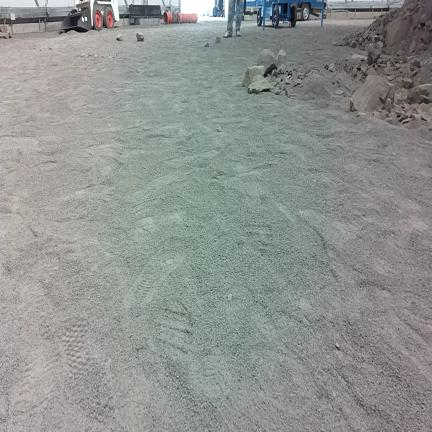Rock: (350, 75, 394, 111), (258, 49, 277, 76), (242, 66, 264, 87), (408, 84, 431, 104), (248, 75, 272, 93), (368, 43, 381, 65), (277, 50, 286, 66), (421, 112, 431, 122), (411, 58, 421, 68), (360, 64, 368, 76), (374, 112, 386, 120), (403, 78, 412, 88), (385, 98, 391, 112), (409, 39, 415, 53), (399, 113, 408, 122), (367, 67, 377, 75), (395, 98, 406, 105), (376, 40, 384, 49), (371, 35, 380, 43), (389, 58, 396, 67), (0, 25, 7, 33), (328, 64, 335, 72), (411, 113, 419, 120), (343, 38, 350, 46), (362, 33, 370, 40), (137, 32, 143, 41), (304, 71, 313, 77), (352, 67, 357, 77), (266, 76, 273, 83), (286, 89, 293, 96), (294, 79, 301, 86), (0, 33, 8, 39), (385, 118, 393, 124), (379, 63, 387, 69), (280, 64, 285, 73), (335, 90, 344, 95), (402, 118, 411, 123), (345, 84, 351, 91), (303, 79, 310, 85), (412, 70, 418, 77), (394, 64, 401, 70), (270, 76, 276, 82), (280, 75, 286, 81), (387, 75, 393, 81), (396, 111, 402, 117), (412, 107, 418, 113), (360, 56, 366, 62), (377, 58, 383, 64), (117, 34, 122, 41), (275, 88, 280, 95), (351, 41, 356, 48), (275, 68, 279, 76), (357, 112, 365, 116), (276, 77, 281, 83), (283, 80, 289, 85), (324, 63, 329, 69), (396, 77, 402, 82), (286, 75, 292, 80), (369, 25, 374, 31), (335, 42, 342, 46), (386, 60, 390, 67), (420, 60, 424, 67), (287, 69, 292, 74), (298, 83, 303, 88), (365, 29, 370, 34), (216, 37, 220, 43), (359, 38, 363, 44), (344, 57, 350, 61), (374, 64, 378, 70), (7, 33, 11, 38), (217, 127, 221, 132), (272, 70, 276, 75), (293, 67, 298, 71), (298, 68, 302, 73), (357, 64, 361, 69), (366, 35, 370, 40), (418, 24, 422, 29), (205, 43, 209, 47), (332, 42, 336, 46), (424, 26, 428, 30), (356, 37, 359, 42), (81, 53, 85, 56), (85, 53, 88, 57), (332, 80, 335, 84), (337, 80, 340, 84), (49, 47, 52, 50), (40, 49, 42, 51), (33, 48, 35, 50)
